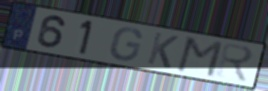1: (77, 19, 94, 57)
6: (36, 14, 68, 50)
G: (108, 27, 145, 63)
K: (145, 30, 180, 71)
M: (174, 36, 225, 79)
R: (214, 41, 255, 85)
